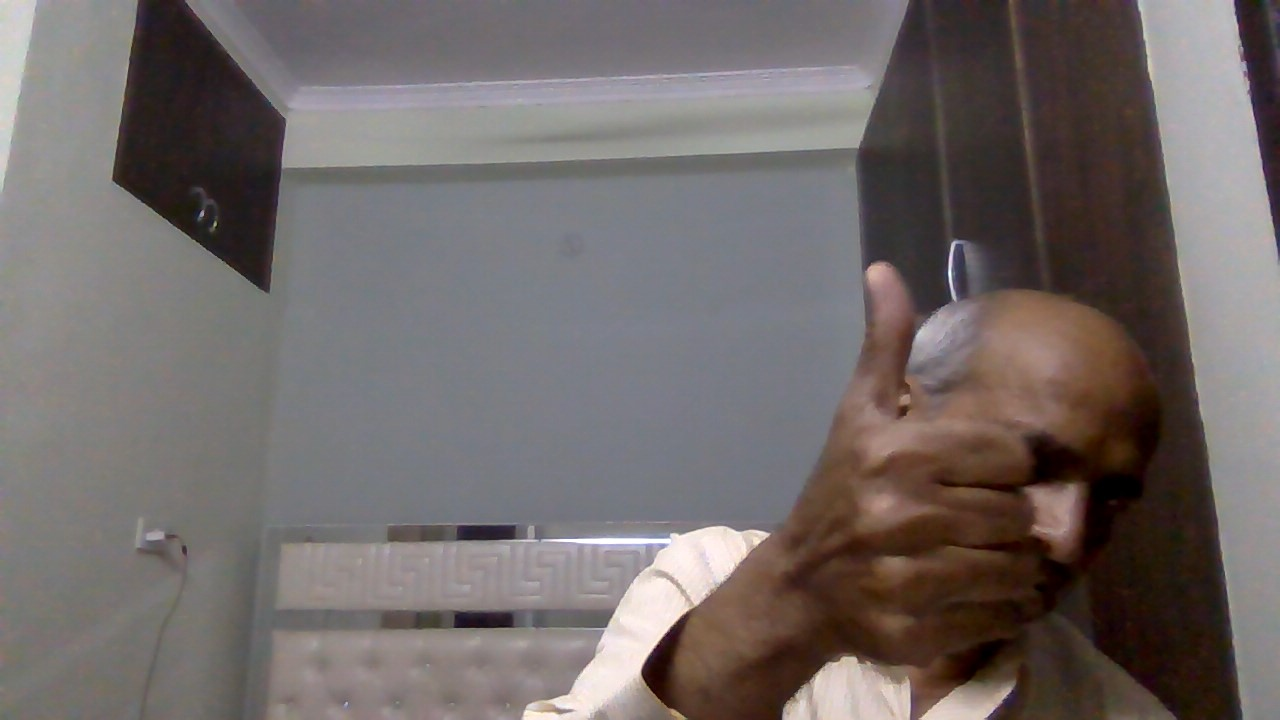Save: (801, 250, 1056, 680)
